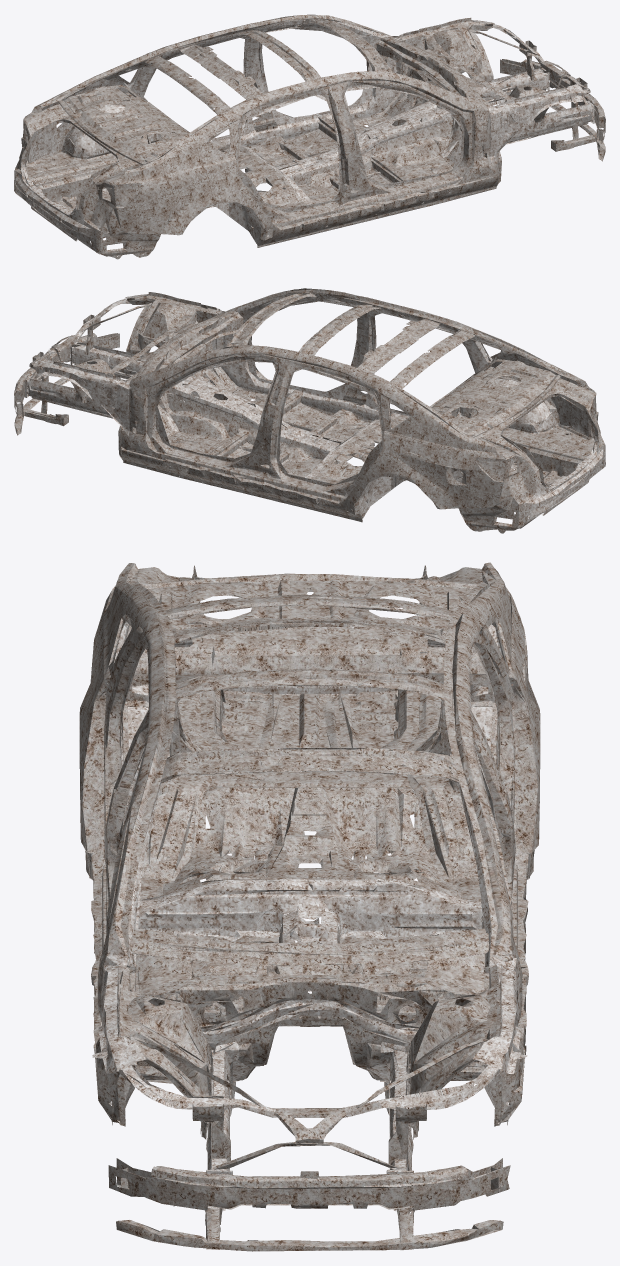
Rendered from metro_car_frame.glb.
The picture shows the model from 3 angles, top to bottom: view 1: azimuth 30°, elevation 25°; view 2: azimuth 150°, elevation 25°; view 3: azimuth 270°, elevation 25°; orthographic projection. The views are drawn at different scales.
Parts seen in each view (by area): view 1: metro_car_frame; view 2: metro_car_frame; view 3: metro_car_frame.
Boxes of the visible parts, box(x1,y1,x2,y2) form: metro_car_frame: box(14, 14, 605, 259); metro_car_frame: box(14, 288, 605, 533); metro_car_frame: box(79, 562, 540, 1251).
Size of the model in its own units: 4.93 by 1.31 by 1.84.
2 materials, 2 textured.
